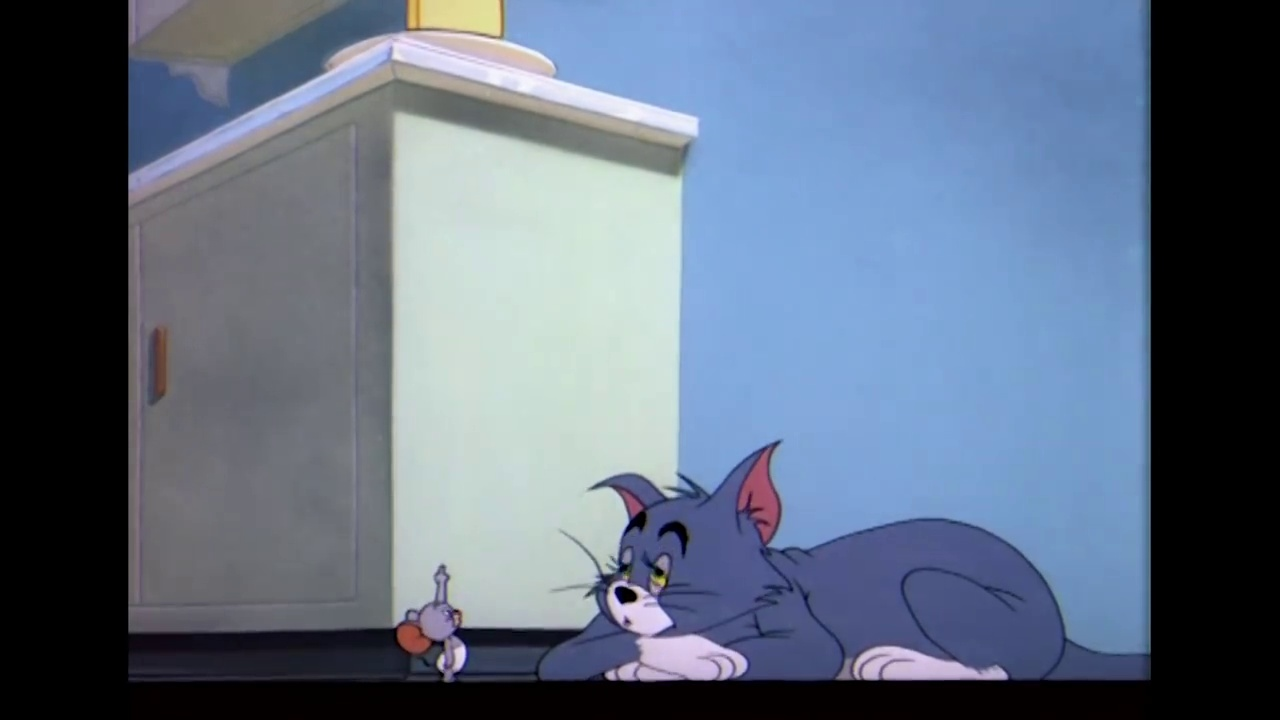tom: (581, 435, 791, 645)
